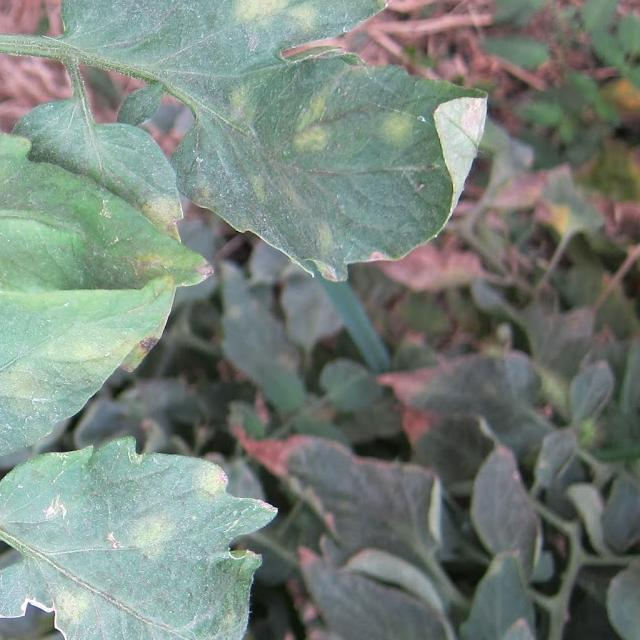Tomato mold leaf: (168, 50, 524, 302), (0, 435, 282, 640), (0, 188, 195, 473), (0, 76, 227, 279), (7, 0, 459, 85)
